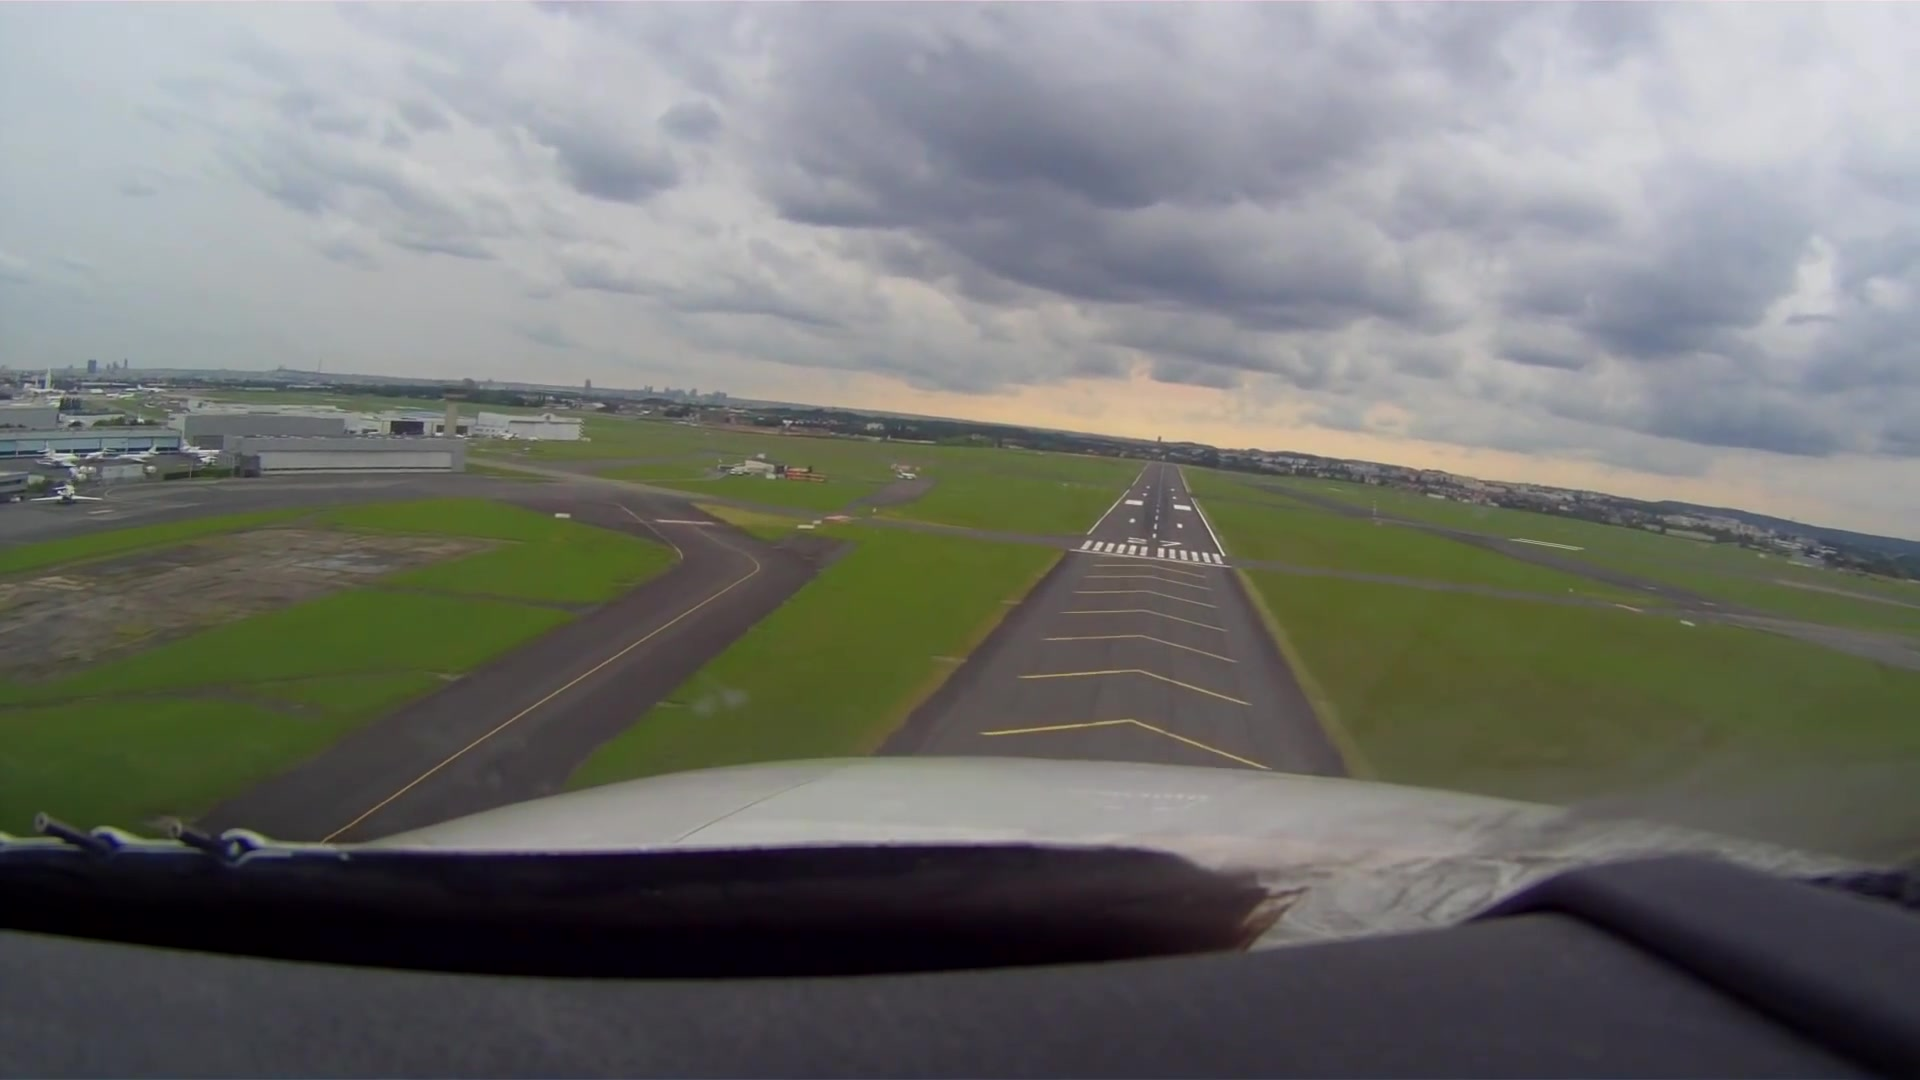entrance: (1077, 539, 1221, 564)
runway: (1067, 458, 1238, 570)
